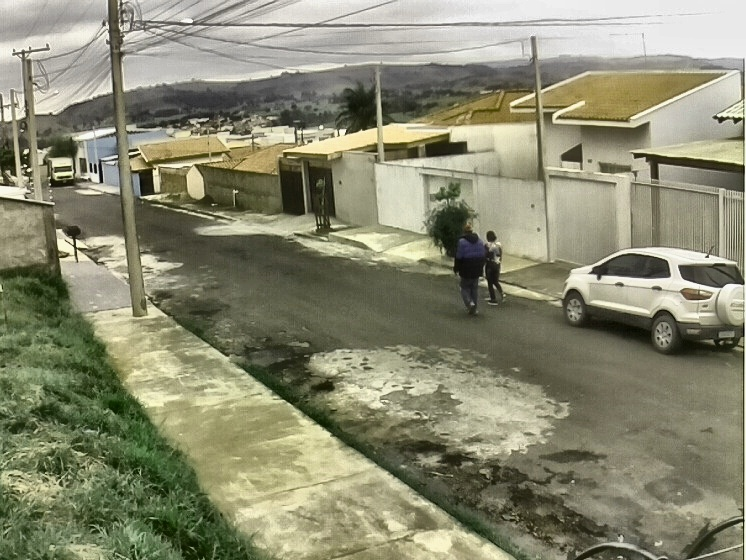person: (452, 223, 485, 314), (482, 229, 506, 309)
